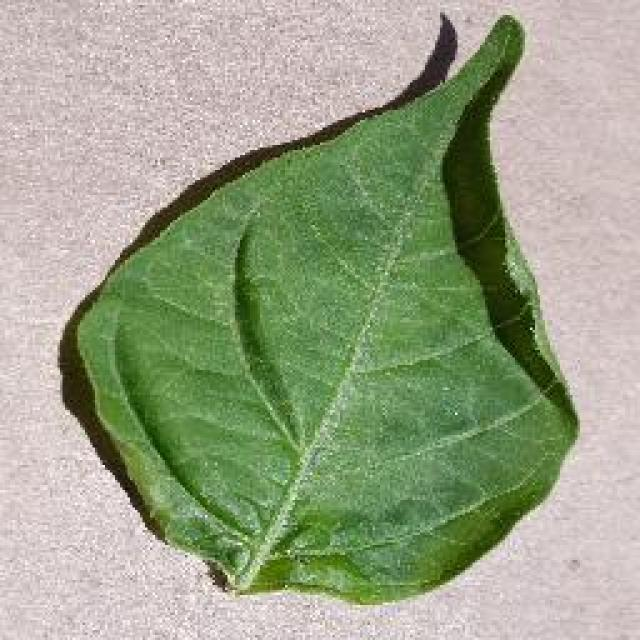Chilli_Healthy: (58, 10, 580, 605)
